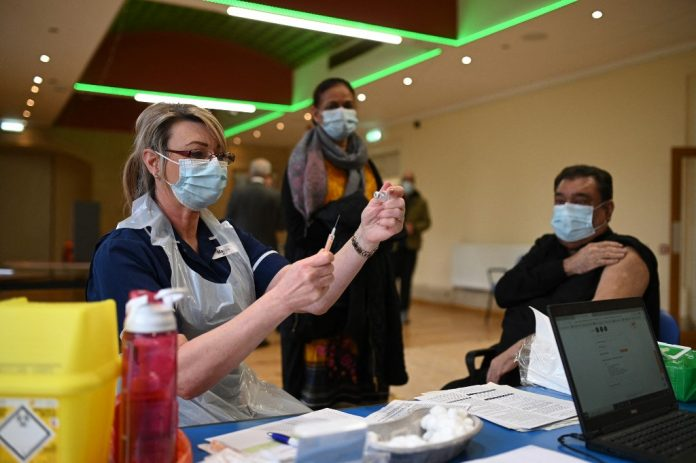with_mask: (143, 111, 231, 214), (551, 176, 610, 241), (311, 86, 359, 139)
